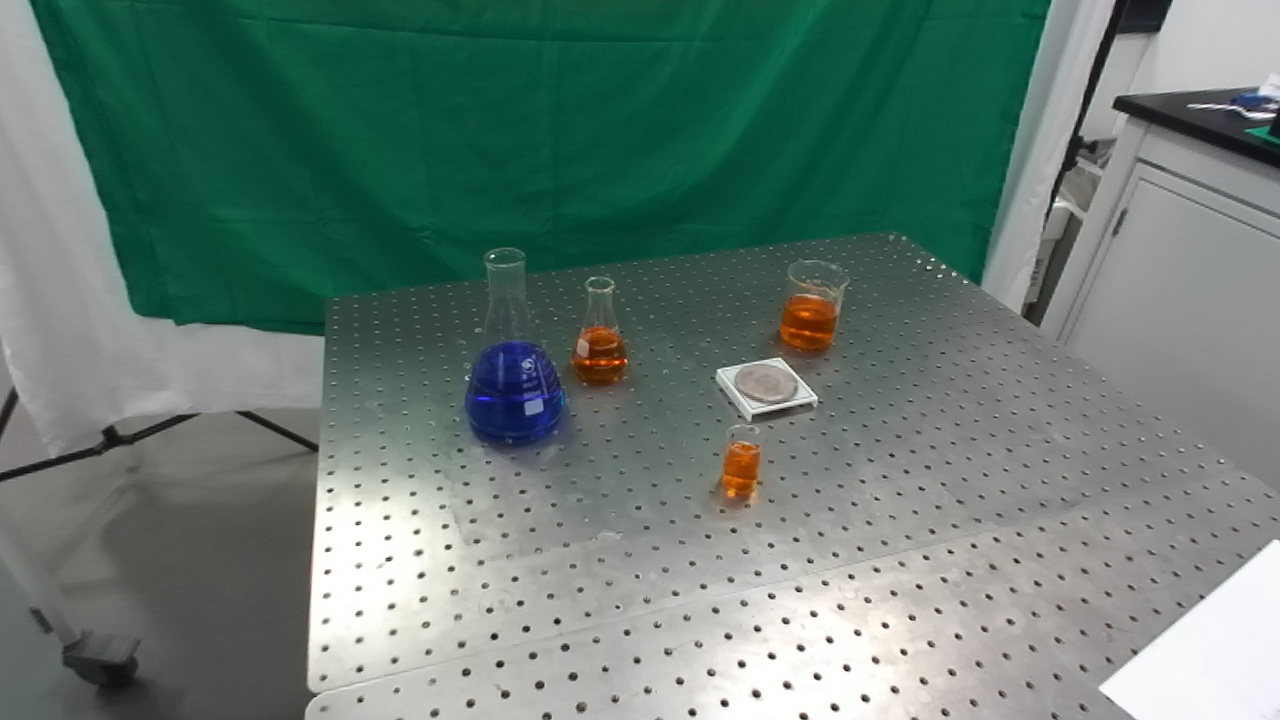glass: (456, 243, 568, 446), (775, 256, 852, 355), (567, 271, 633, 383), (719, 420, 767, 499)
plate: (714, 354, 823, 420)
